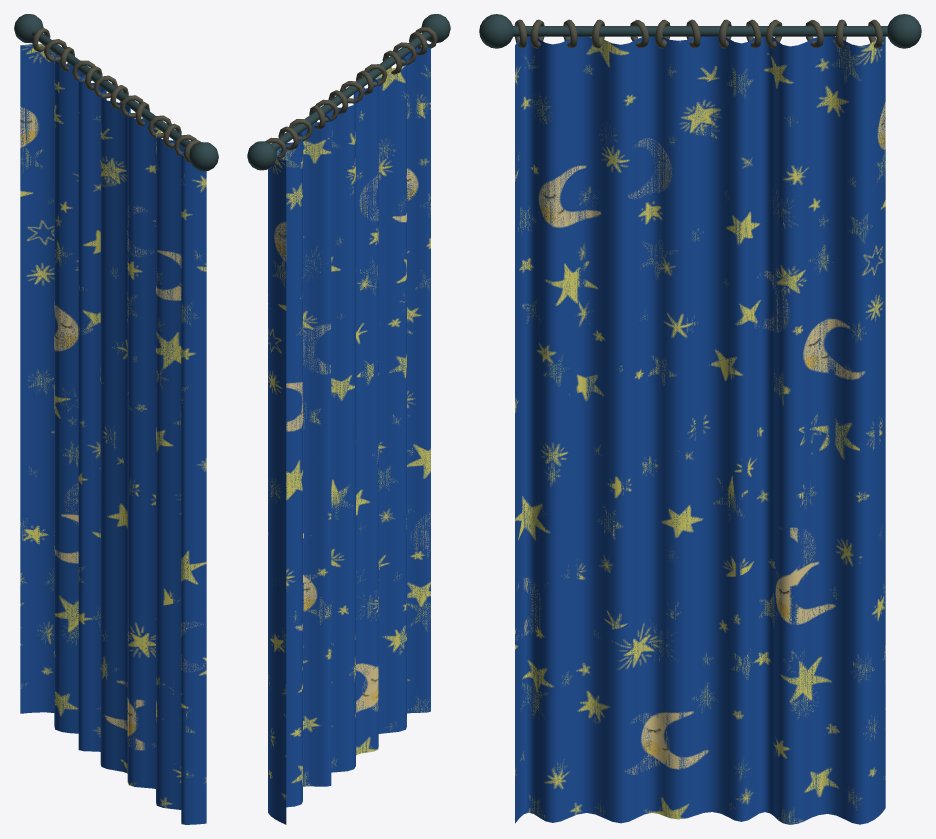
Rendered from SE_196_blue_curtains.glb.
3 views of the same model, side by side, from view 1: azimuth 30°, elevation 25°; view 2: azimuth 150°, elevation 25°; view 3: azimuth 270°, elevation 25° (orthographic). The views are drawn at different scales.
Parts seen in each view (by area): view 1: curtain_front, curtain_back, rings, hanger; view 2: curtain_front, curtain_back, rings, hanger; view 3: curtain_front, curtain_back, hanger, rings.
Part boxes in pixels (left/top/right/bottom): curtain_front: left=20, top=44, right=206, bottom=824; curtain_back: left=20, top=44, right=206, bottom=824; rings: left=32, top=28, right=200, bottom=163; hanger: left=14, top=14, right=218, bottom=171; curtain_front: left=268, top=43, right=430, bottom=824; curtain_back: left=268, top=44, right=430, bottom=823; rings: left=265, top=27, right=437, bottom=158; hanger: left=247, top=14, right=450, bottom=170; curtain_front: left=515, top=36, right=885, bottom=824; curtain_back: left=515, top=36, right=885, bottom=824; hanger: left=479, top=14, right=921, bottom=48; rings: left=514, top=19, right=883, bottom=48.
Bounding box in the file's own units: 0.1345 × 3 × 1.5.
Materials: 3 (1 with a texture image).
